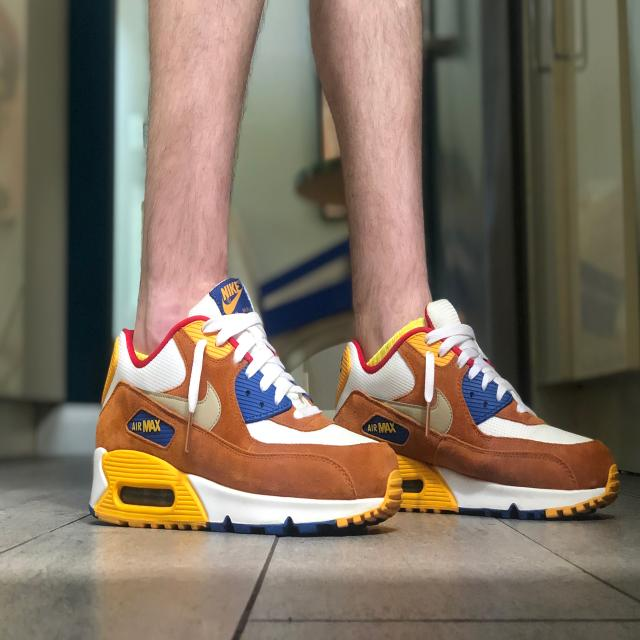shoe: (87, 277, 406, 535), (332, 298, 622, 520)
